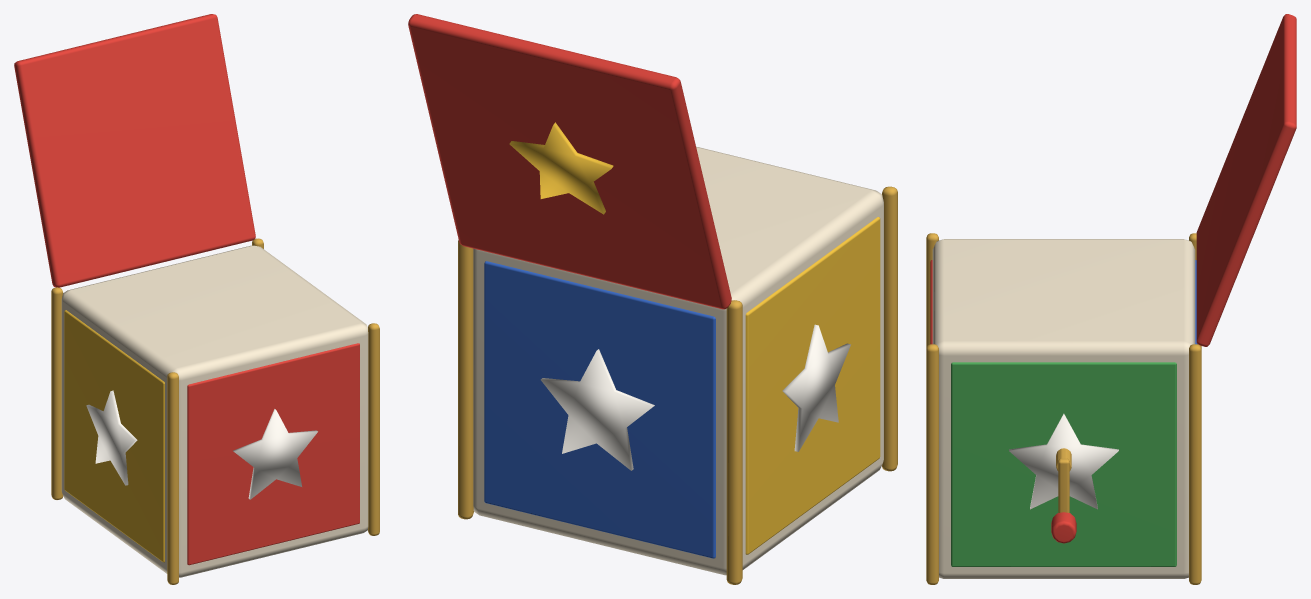
File: toy_jack_box.glb
The picture shows the model from 3 angles, left to right: view 1: azimuth 30°, elevation 25°; view 2: azimuth 150°, elevation 25°; view 3: azimuth 270°, elevation 25°; orthographic projection. The views are drawn at different scales.
Parts seen in each view (by area): view 1: toy_jack_box; view 2: toy_jack_box; view 3: toy_jack_box.
Boxes of the visible parts, bbox=[...] form: toy_jack_box: bbox=[14, 14, 379, 584]; toy_jack_box: bbox=[408, 14, 897, 584]; toy_jack_box: bbox=[926, 14, 1296, 584].
Size of the model in its own units: 5.81 by 8.91 by 6.49.
